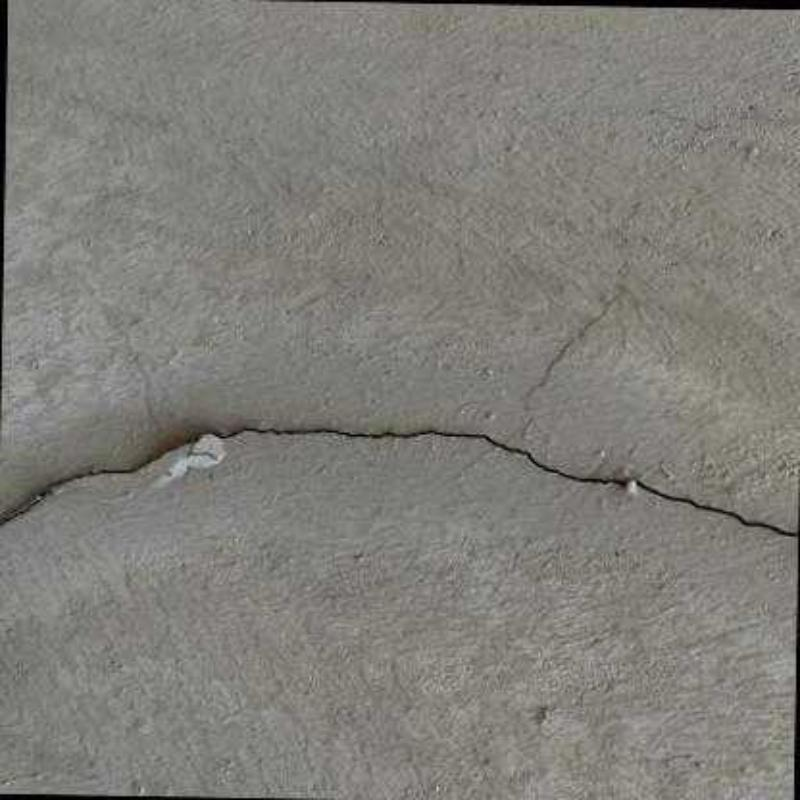crack: (0, 427, 798, 537)
